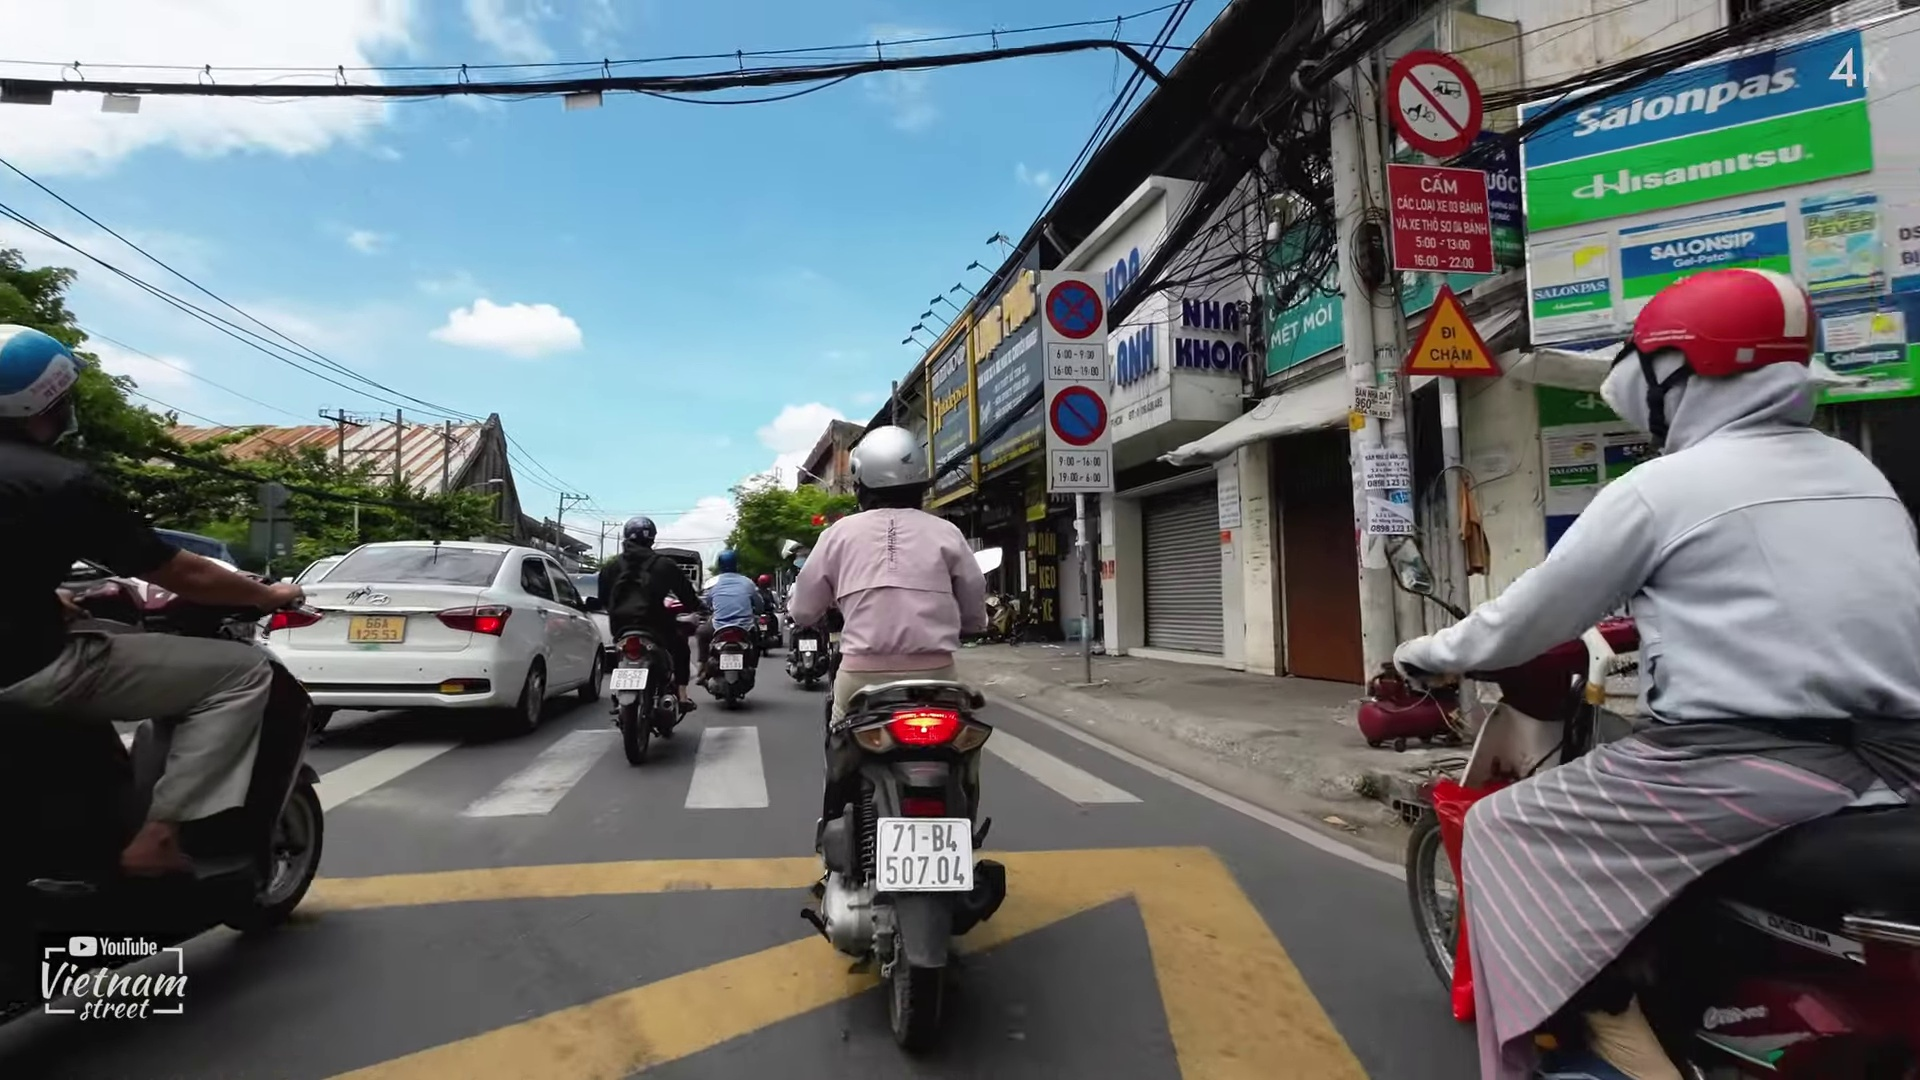cam_do_xe: (1048, 382, 1112, 451)
di_cham: (1391, 281, 1511, 381)
